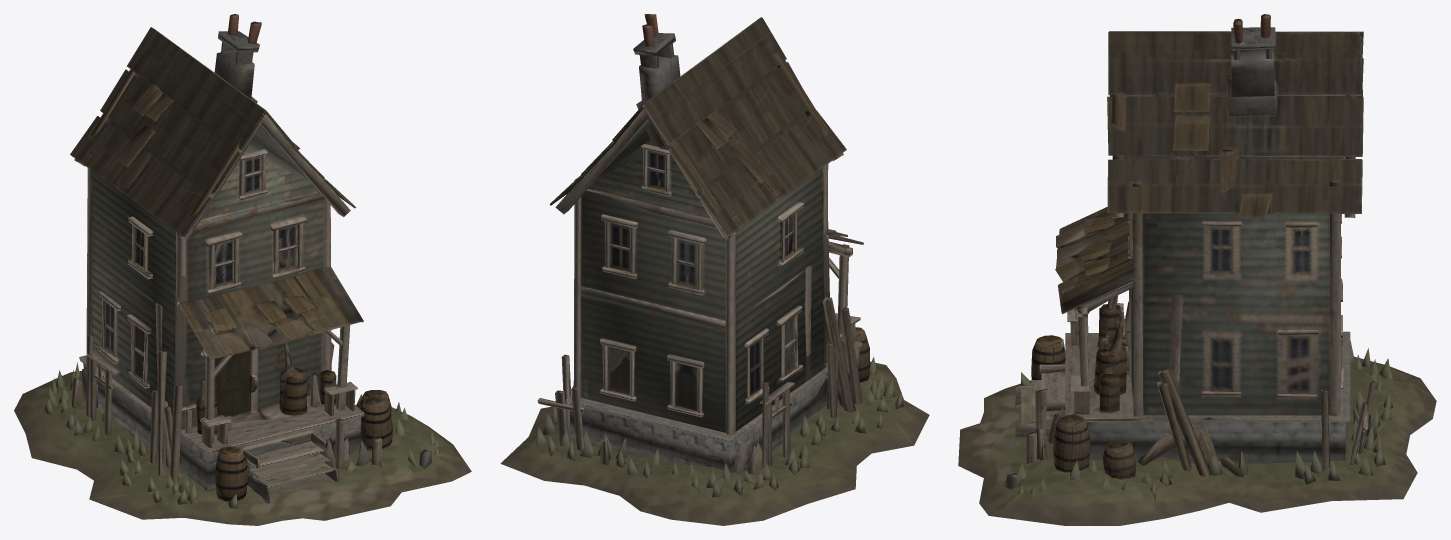
File: Meshy_AI_pickman_house_2_textu_0921204805_texture.glb
3 views of the same model, side by side, from view 1: azimuth 30°, elevation 25°; view 2: azimuth 150°, elevation 25°; view 3: azimuth 270°, elevation 25° (orthographic). The views are drawn at different scales.
Bounding box in the file's own units: 1.75 × 2 × 1.97.
1 material, 1 textured.
